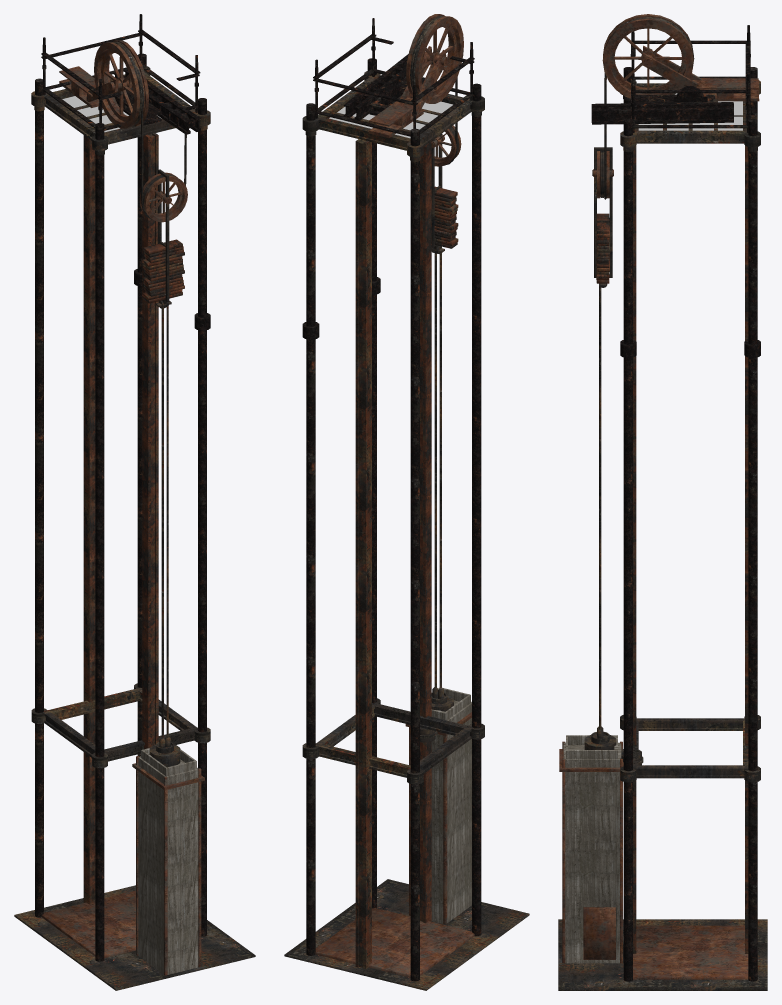
File: Greenhouse_Elevator01_02.FBX
3 views of the same model, side by side, from view 1: azimuth 30°, elevation 25°; view 2: azimuth 150°, elevation 25°; view 3: azimuth 270°, elevation 25° (orthographic). The views are drawn at different scales.
Parts seen in each view (by area): view 1: Greenhouse_Elevator01_02; view 2: Greenhouse_Elevator01_02; view 3: Greenhouse_Elevator01_02.
Boxes of the visible parts, <box> form: Greenhouse_Elevator01_02: <box>14,14,255,990</box>; Greenhouse_Elevator01_02: <box>284,14,529,990</box>; Greenhouse_Elevator01_02: <box>558,14,767,990</box>.
Size of the model in its own units: 624 by 3853 by 787.
